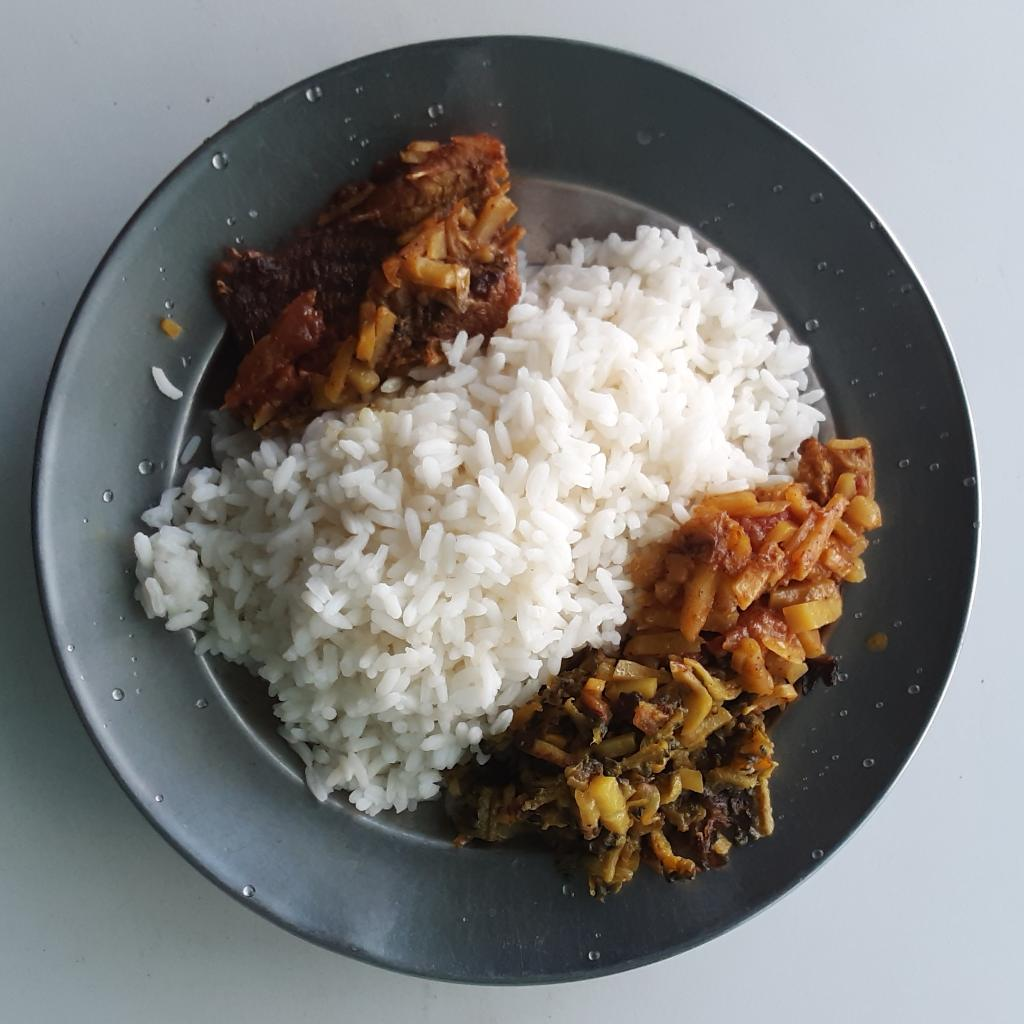fish: (214, 135, 507, 432), (380, 216, 519, 394)
korola-vaji: (445, 651, 782, 898)
potato: (587, 439, 883, 747), (313, 184, 513, 421)
rice: (133, 225, 823, 812)
